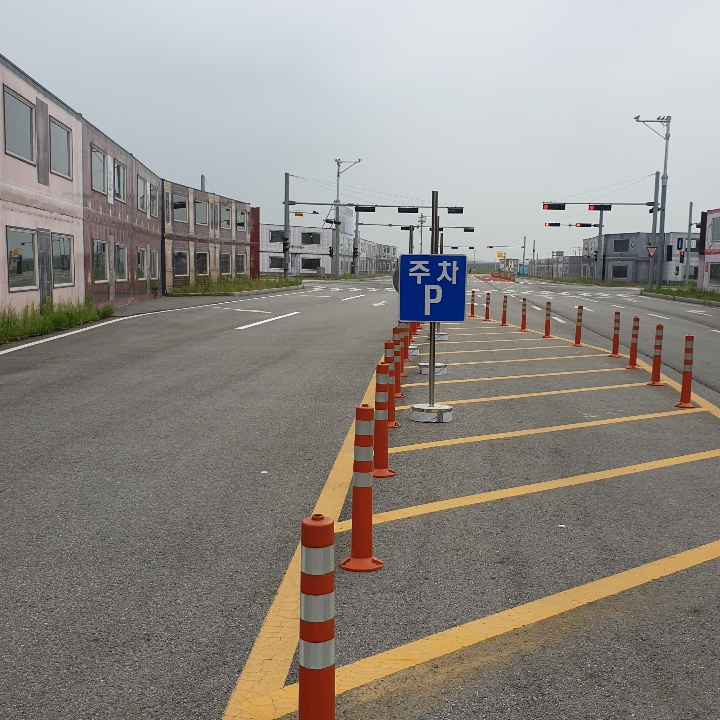parking: (420, 281, 443, 315)
